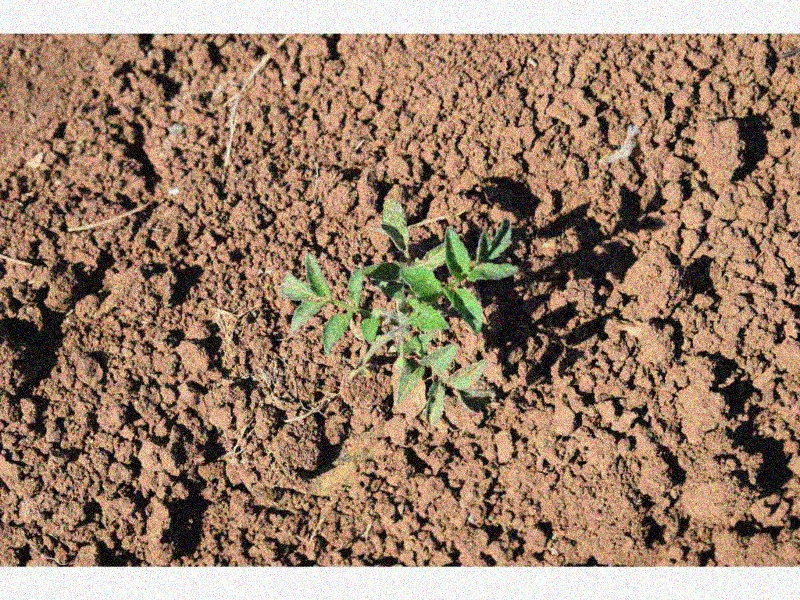tomato: (279, 203, 516, 426)
